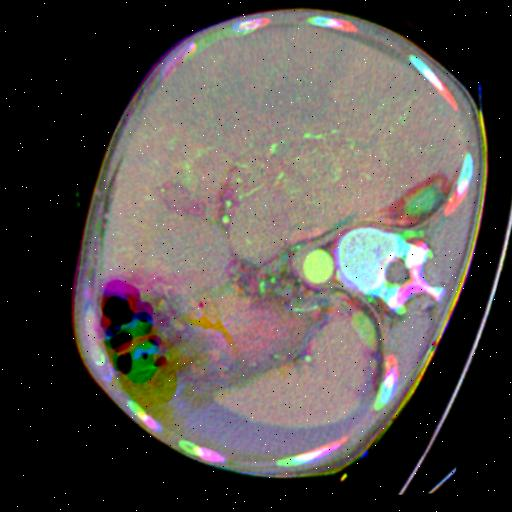Tumor: (156, 188, 203, 219)
